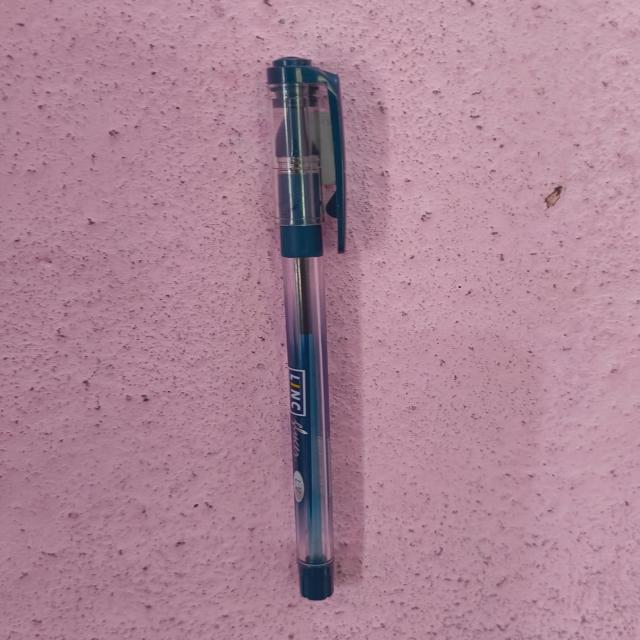pen: (251, 56, 360, 604)
